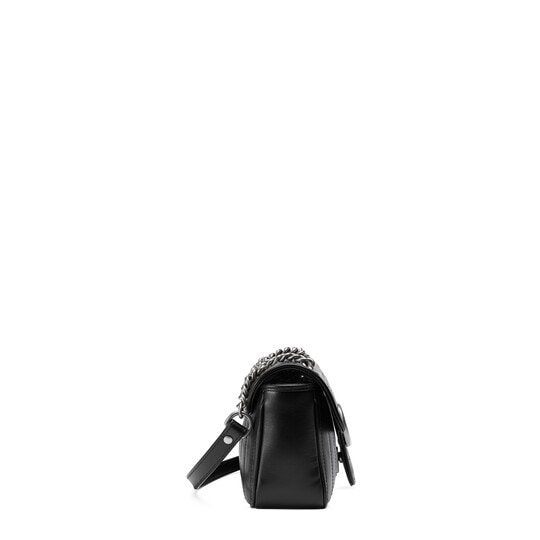Gucci: (192, 349, 356, 511)
